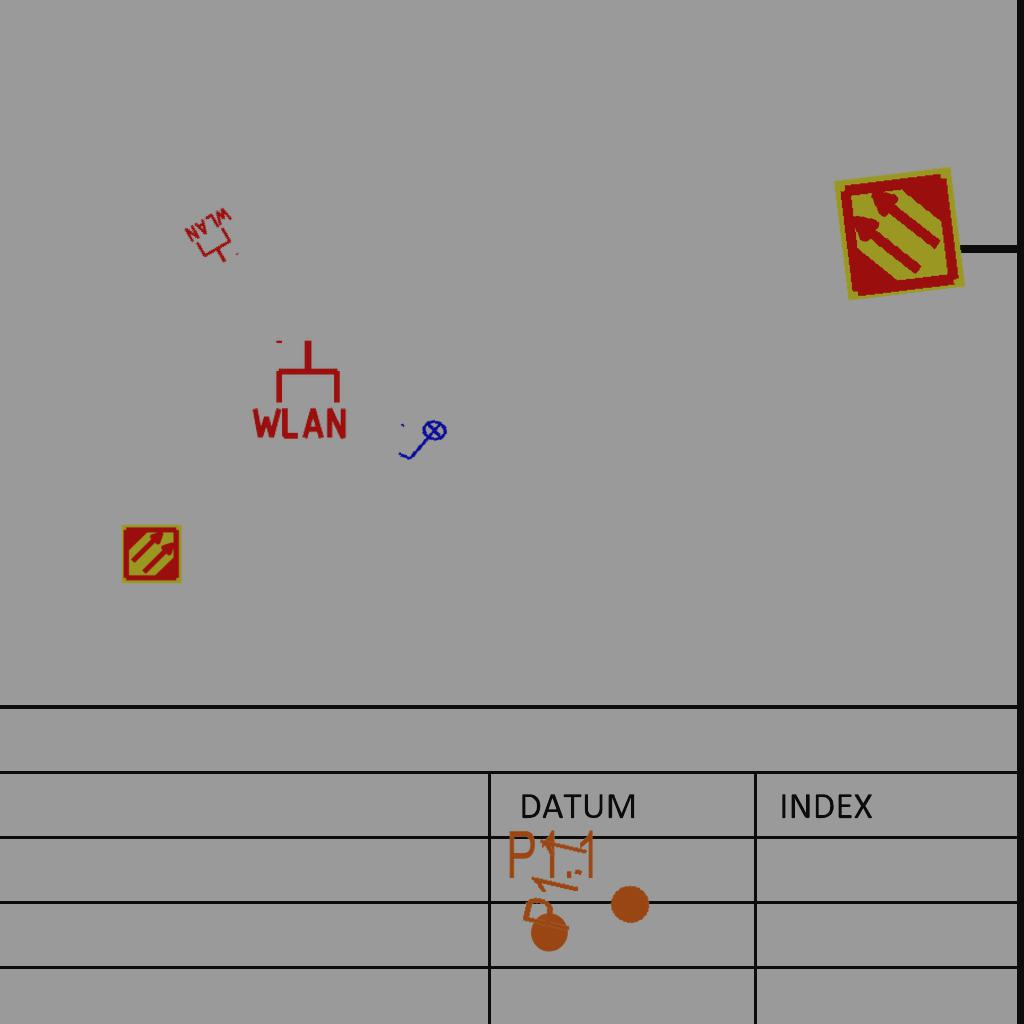ASR_Ansaugrauchmelder: (829, 163, 970, 304), (121, 523, 183, 585)
Ausschalter_beleuchtet: (392, 413, 456, 471)
Downlight_LED_Einbauleuchten_Flur: (517, 832, 664, 952), (506, 827, 599, 955)
WLAN: (247, 336, 351, 441), (181, 203, 253, 275)
